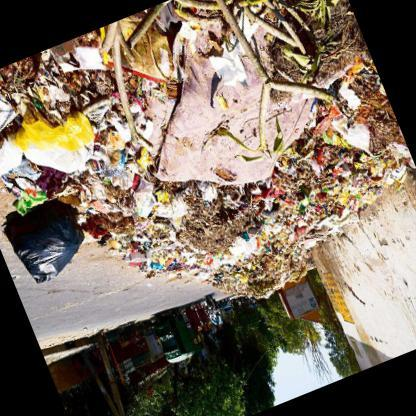Garbage: (20, 92, 107, 184), (112, 170, 192, 260), (0, 47, 75, 126), (0, 89, 35, 211), (355, 152, 414, 203), (154, 244, 209, 294), (0, 68, 28, 152), (228, 233, 272, 282), (318, 122, 362, 160), (314, 146, 350, 186), (332, 173, 366, 208), (236, 264, 248, 288)
